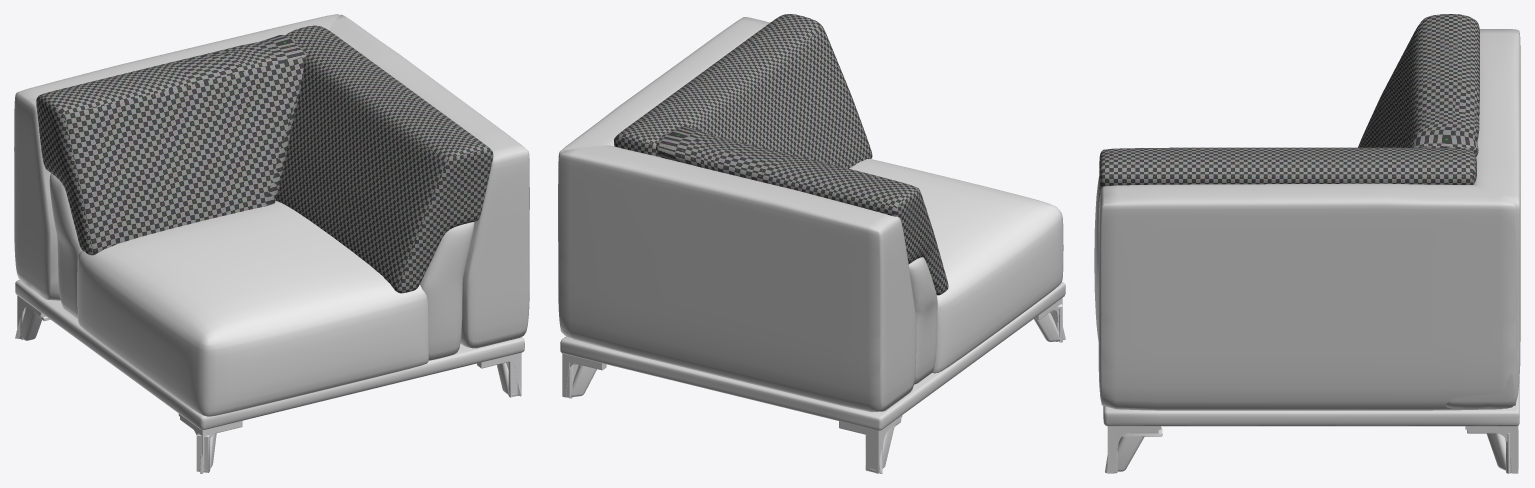
The model's file is Manchester_roh_P.glb.
The picture shows the model from 3 angles, left to right: view 1: azimuth 30°, elevation 25°; view 2: azimuth 150°, elevation 25°; view 3: azimuth 270°, elevation 25°; orthographic projection. The views are drawn at different scales.
Parts seen in each view (by area): view 1: seat_S, body, headrest_P, headrest_L, legs_N11, legs_N9, legs_N8; view 2: body, headrest_L, seat_S, headrest_P, legs_N11, legs_N9, Legs_N1, legs_N8; view 3: body, headrest_L, headrest_P, legs_N11, legs_N9, seat_S.
Part boxes in pixels (x1=…): seat_S: x1=77, y1=201, x2=428, y2=416; body: x1=14, y1=14, x2=529, y2=429; headrest_P: x1=36, y1=35, x2=305, y2=255; headrest_L: x1=275, y1=25, x2=493, y2=293; legs_N11: x1=17, y1=295, x2=521, y2=472; legs_N9: x1=20, y1=307, x2=517, y2=471; legs_N8: x1=36, y1=315, x2=517, y2=472; body: x1=558, y1=17, x2=1065, y2=430; headrest_L: x1=614, y1=14, x2=872, y2=168; seat_S: x1=849, y1=159, x2=1063, y2=373; headrest_P: x1=656, y1=126, x2=948, y2=295; legs_N11: x1=562, y1=298, x2=1062, y2=473; legs_N9: x1=570, y1=312, x2=1059, y2=471; Legs_N1: x1=566, y1=310, x2=1058, y2=471; legs_N8: x1=569, y1=304, x2=1062, y2=472; body: x1=1098, y1=29, x2=1520, y2=426; headrest_L: x1=1099, y1=147, x2=1476, y2=201; headrest_P: x1=1358, y1=14, x2=1479, y2=156; legs_N11: x1=1107, y1=426, x2=1518, y2=473; legs_N9: x1=1117, y1=433, x2=1505, y2=471; seat_S: x1=1094, y1=176, x2=1099, y2=341.
Size of the model in its own units: 1.02 by 0.7713 by 1.03.
Materials: 8 (1 with a texture image).
